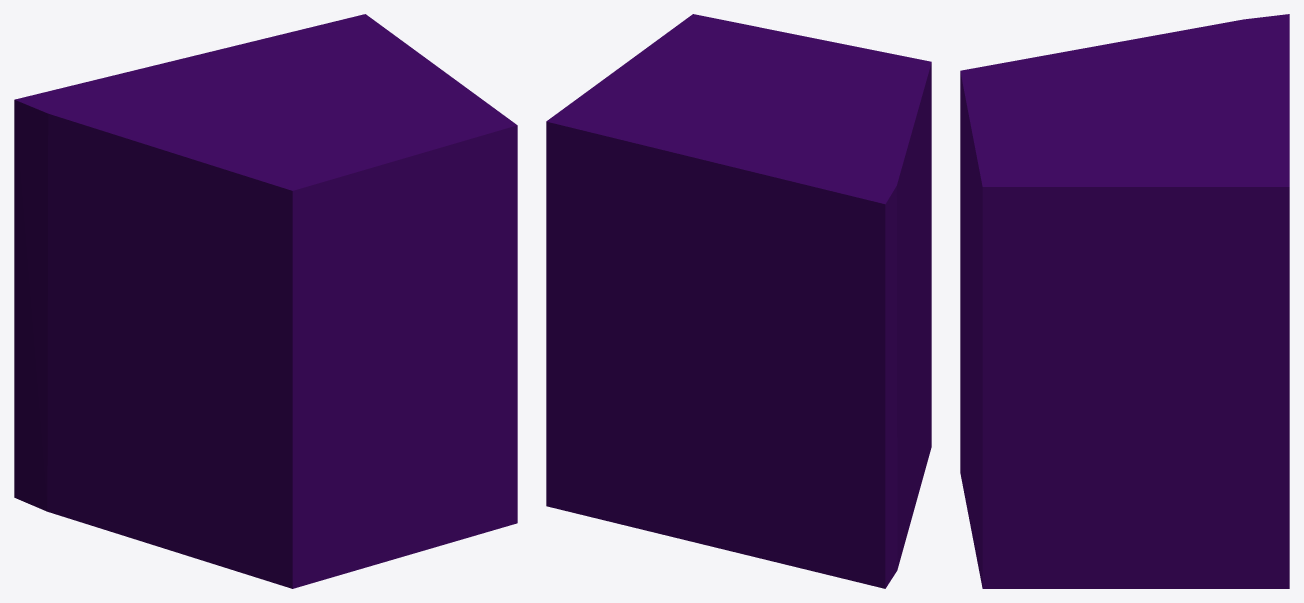
Rendered from simple_example_hole_part_13.obj.
3 renders of one model, left to right at view 1: azimuth 30°, elevation 25°; view 2: azimuth 150°, elevation 25°; view 3: azimuth 270°, elevation 25°, orthographic. The views are drawn at different scales.
Bounding box in the file's own units: 9.23 × 10 × 7.43.
